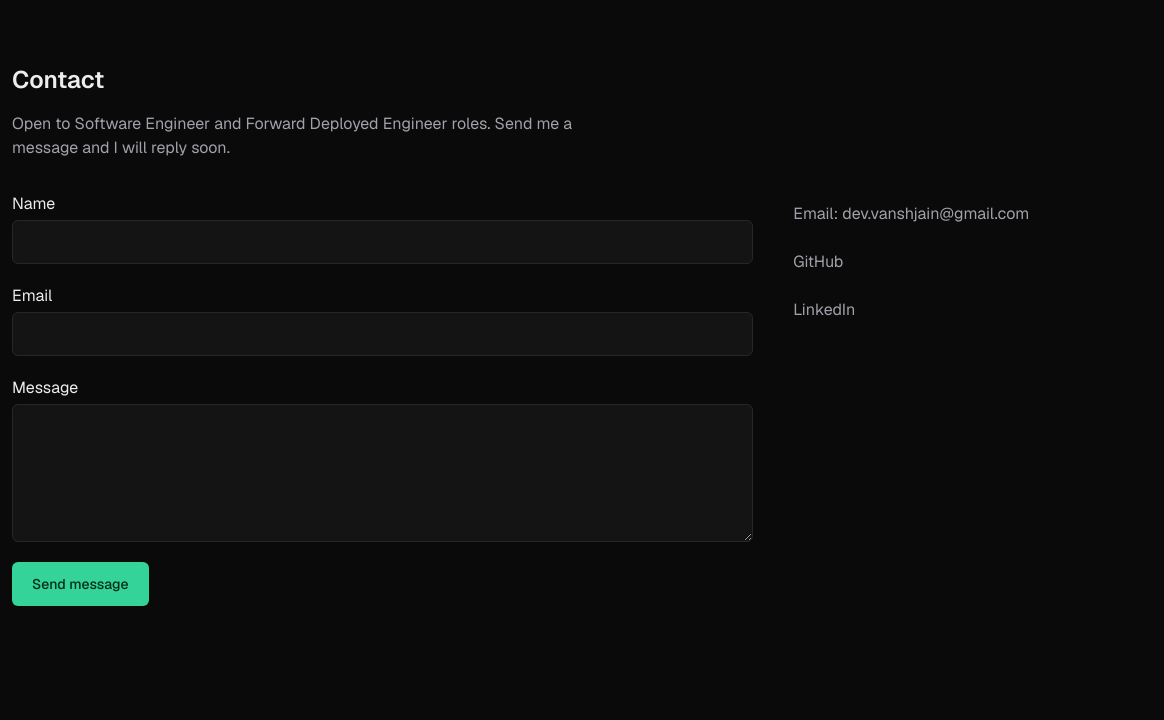
valid form posts to Formspree and shows success
Type "Ada" into the field labelled "Name" at {"x": 383, "y": 242}, box [12, 220, 753, 264]
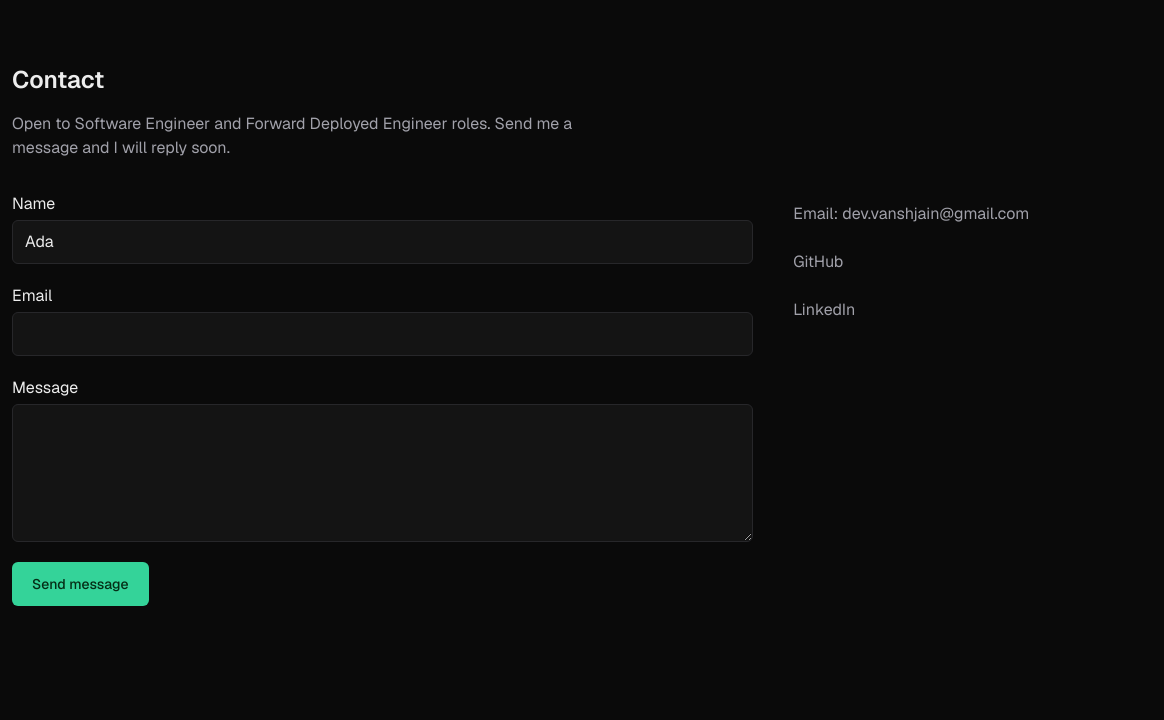
Type "ada@example.com" into the field labelled "Email" at {"x": 383, "y": 334}, box [12, 312, 753, 356]
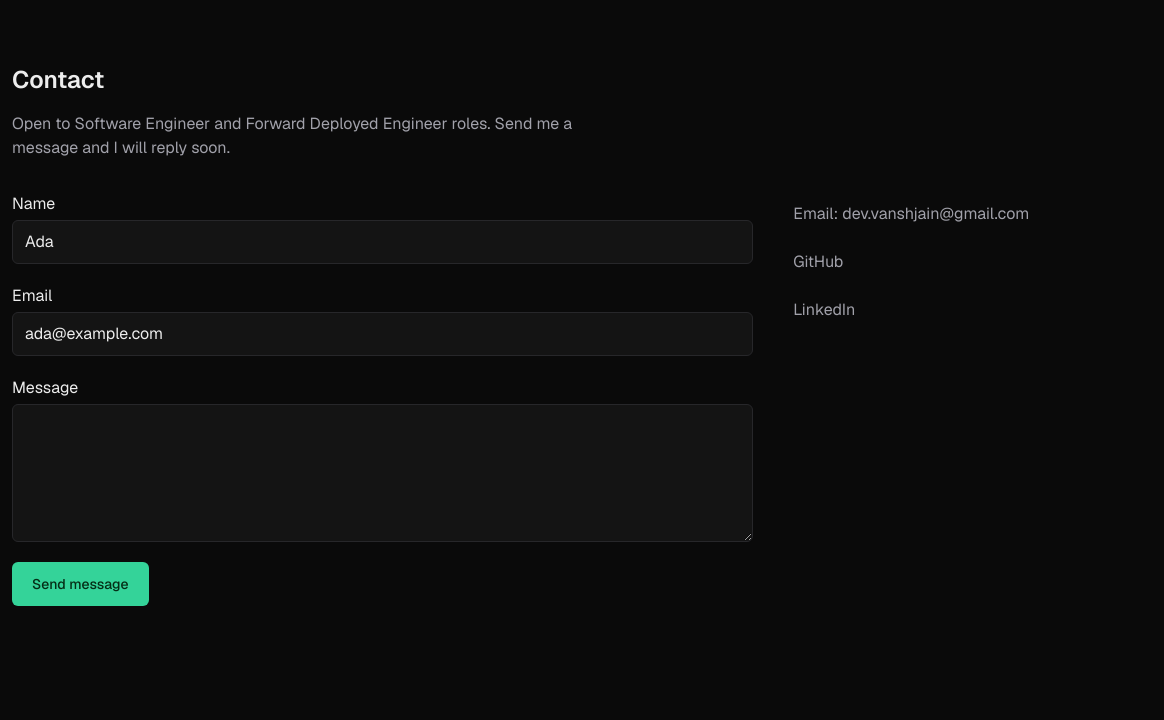
Type "Hello" into the text box labelled "Message" at {"x": 383, "y": 473}, box [12, 404, 753, 542]
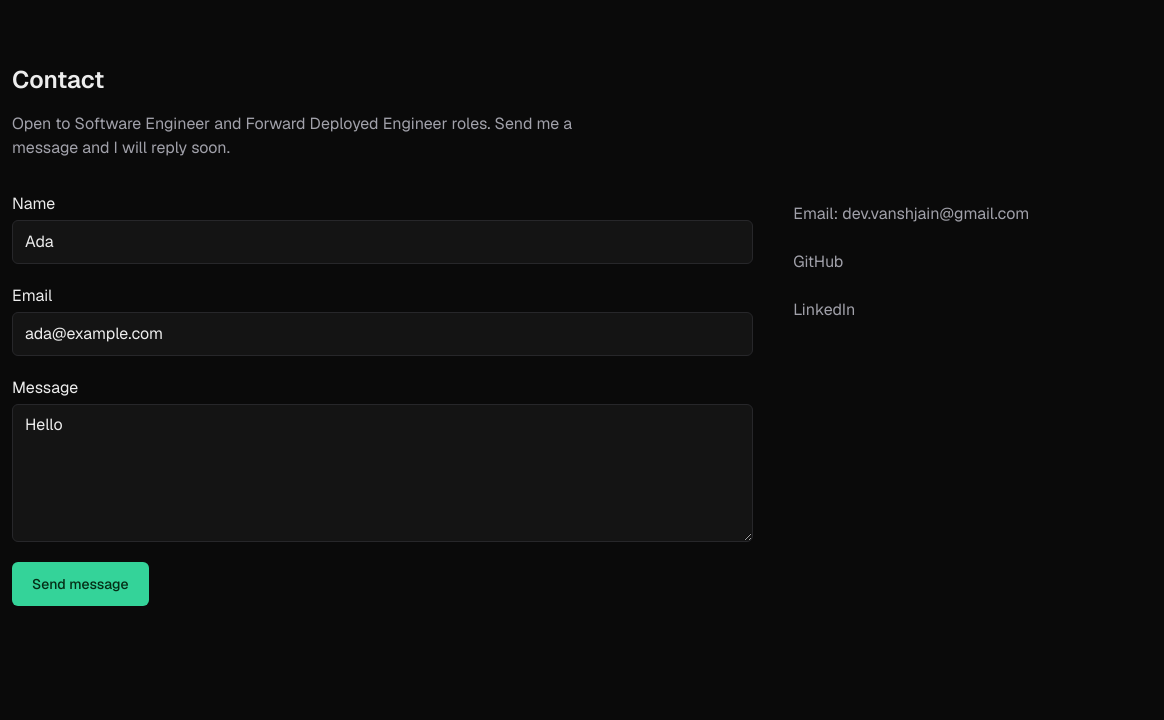
Click the button "Send message" at {"x": 80, "y": 584}, box [12, 562, 148, 606]
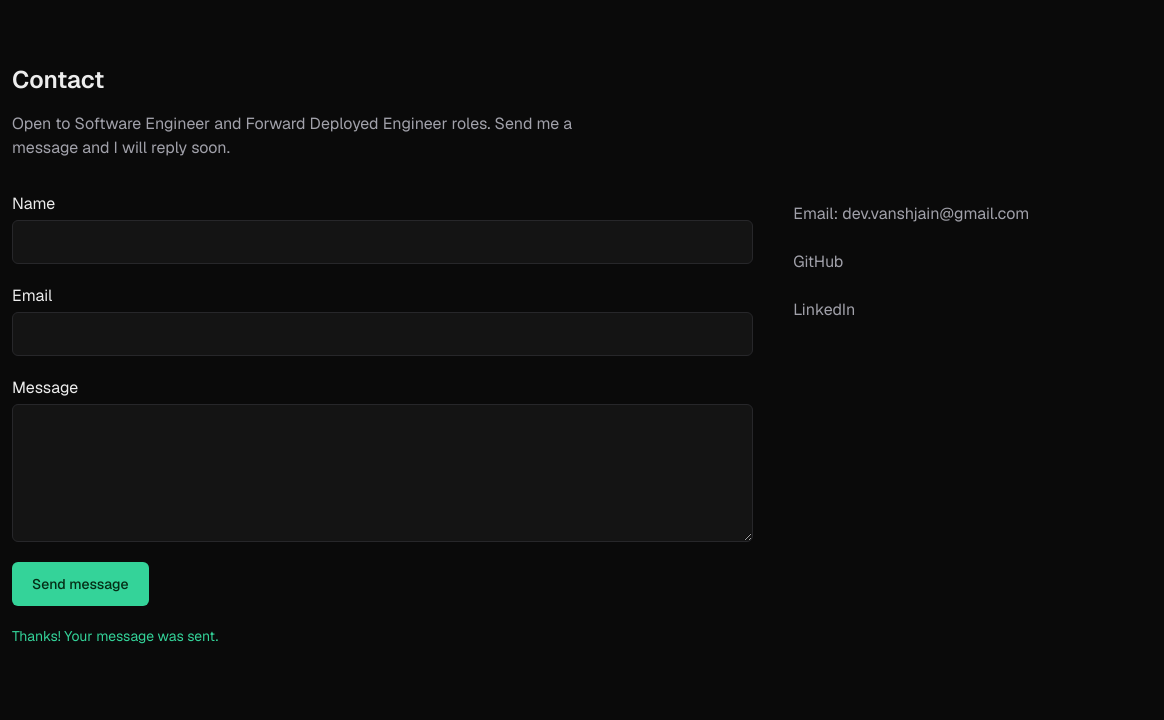
Expected: the text "Thanks! Your message was sent." is shown, [12, 627, 218, 645]
Expected: the field labelled "Name" is empty, [12, 220, 753, 264]
